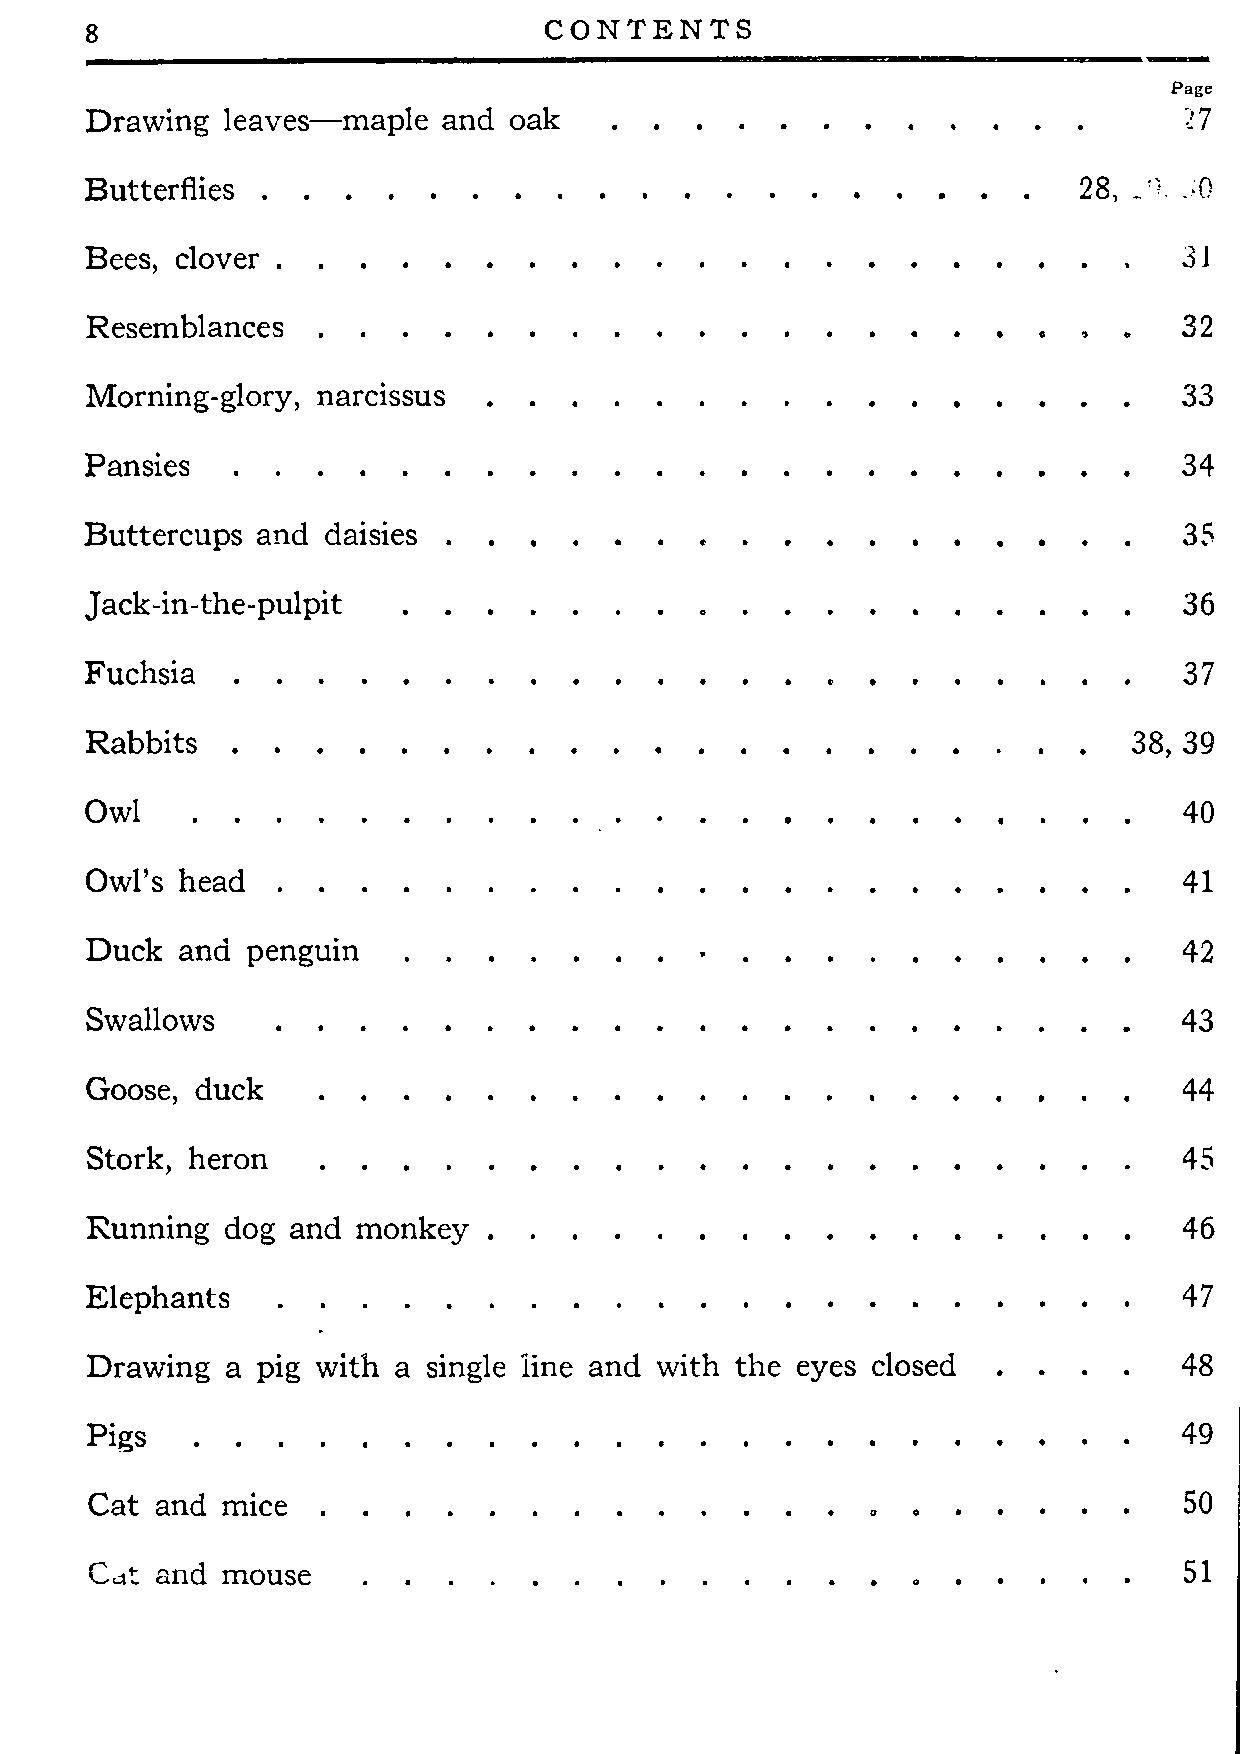TOC_chapter: (83, 1345, 966, 1388), (85, 90, 570, 137), (74, 1204, 472, 1251), (76, 368, 450, 413), (68, 513, 421, 553), (74, 578, 348, 627), (76, 1553, 315, 1602), (81, 931, 361, 972), (74, 302, 293, 348), (76, 1486, 297, 1530), (79, 1139, 282, 1184), (72, 160, 248, 209), (81, 858, 258, 906), (83, 1067, 270, 1113), (74, 235, 264, 276), (81, 1270, 232, 1319), (74, 996, 223, 1037), (72, 439, 199, 480), (72, 650, 200, 690), (76, 721, 204, 757), (79, 1410, 158, 1459), (83, 788, 149, 835)
TOC_pagenumber: (1075, 162, 1223, 209), (1129, 726, 1215, 757), (1177, 784, 1223, 829), (1173, 927, 1220, 972), (1180, 377, 1223, 424), (1170, 651, 1217, 692), (1177, 1339, 1219, 1386), (1176, 1278, 1220, 1321), (1173, 582, 1220, 623), (1173, 1071, 1220, 1110), (1180, 231, 1216, 280), (1181, 510, 1219, 557), (1176, 1000, 1216, 1041), (1177, 1478, 1220, 1516), (1177, 443, 1219, 482), (1177, 858, 1219, 896), (1181, 1545, 1216, 1590), (1181, 1137, 1219, 1176), (1177, 306, 1215, 344), (1180, 1410, 1212, 1451), (1180, 1206, 1216, 1241), (1176, 98, 1216, 129)
chapter: (539, 13, 758, 50)
